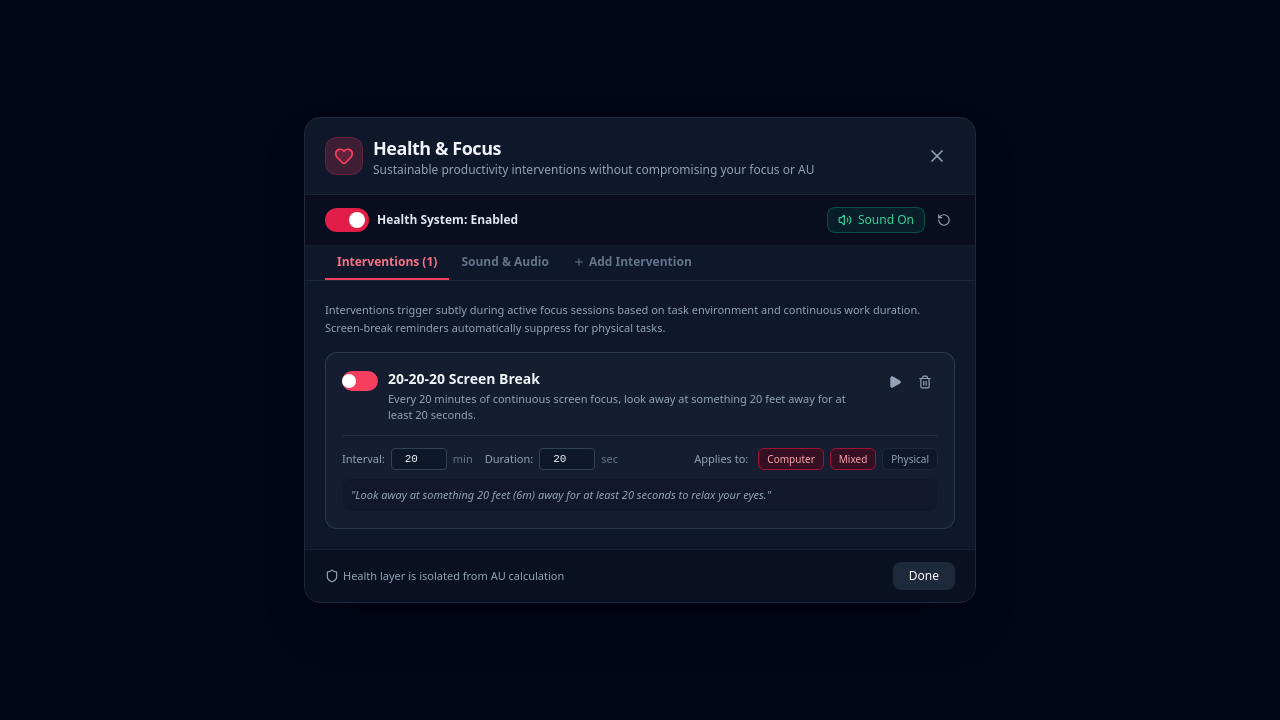
Test: Health UI Components: HealthConfigModal & ActiveWorkBar › HealthConfigModal › switches to New tab and populates from preset
Click the button with test id "tab-add": point(632, 267) [561,254,704,280]
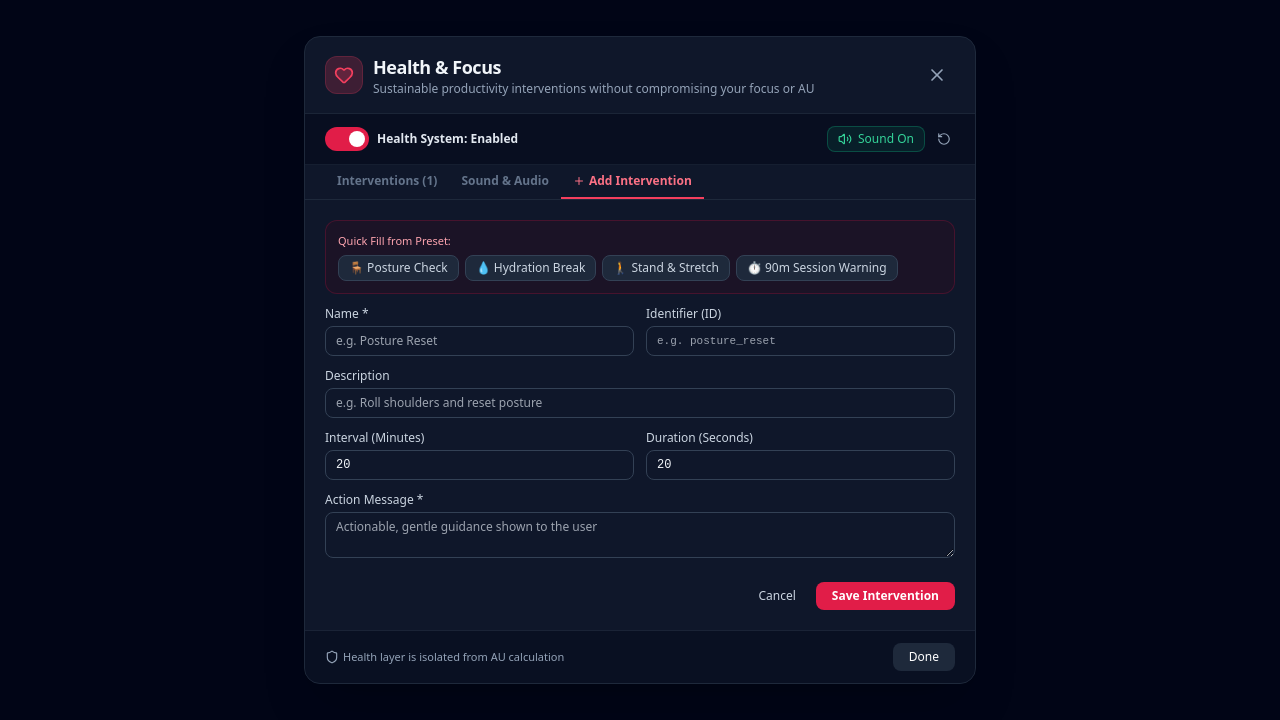
Check: the text "Quick Fill from Preset:" is shown, box [338,233,451,248]
# Quick preset fill: Posture Check
Click the button "🪑 Posture Check": point(398, 268) [338,255,459,281]
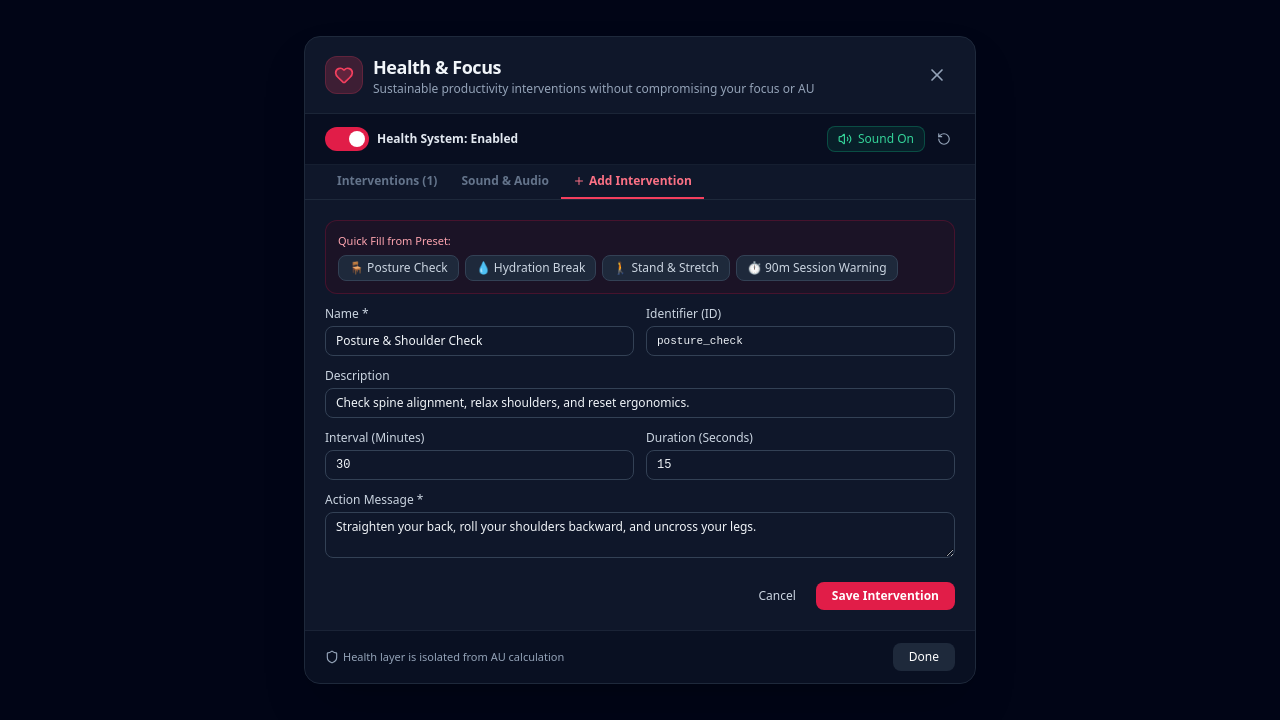
Check: the field showing "Posture & Shoulder Check" below "Name *" is shown, box [325,326,634,356]
